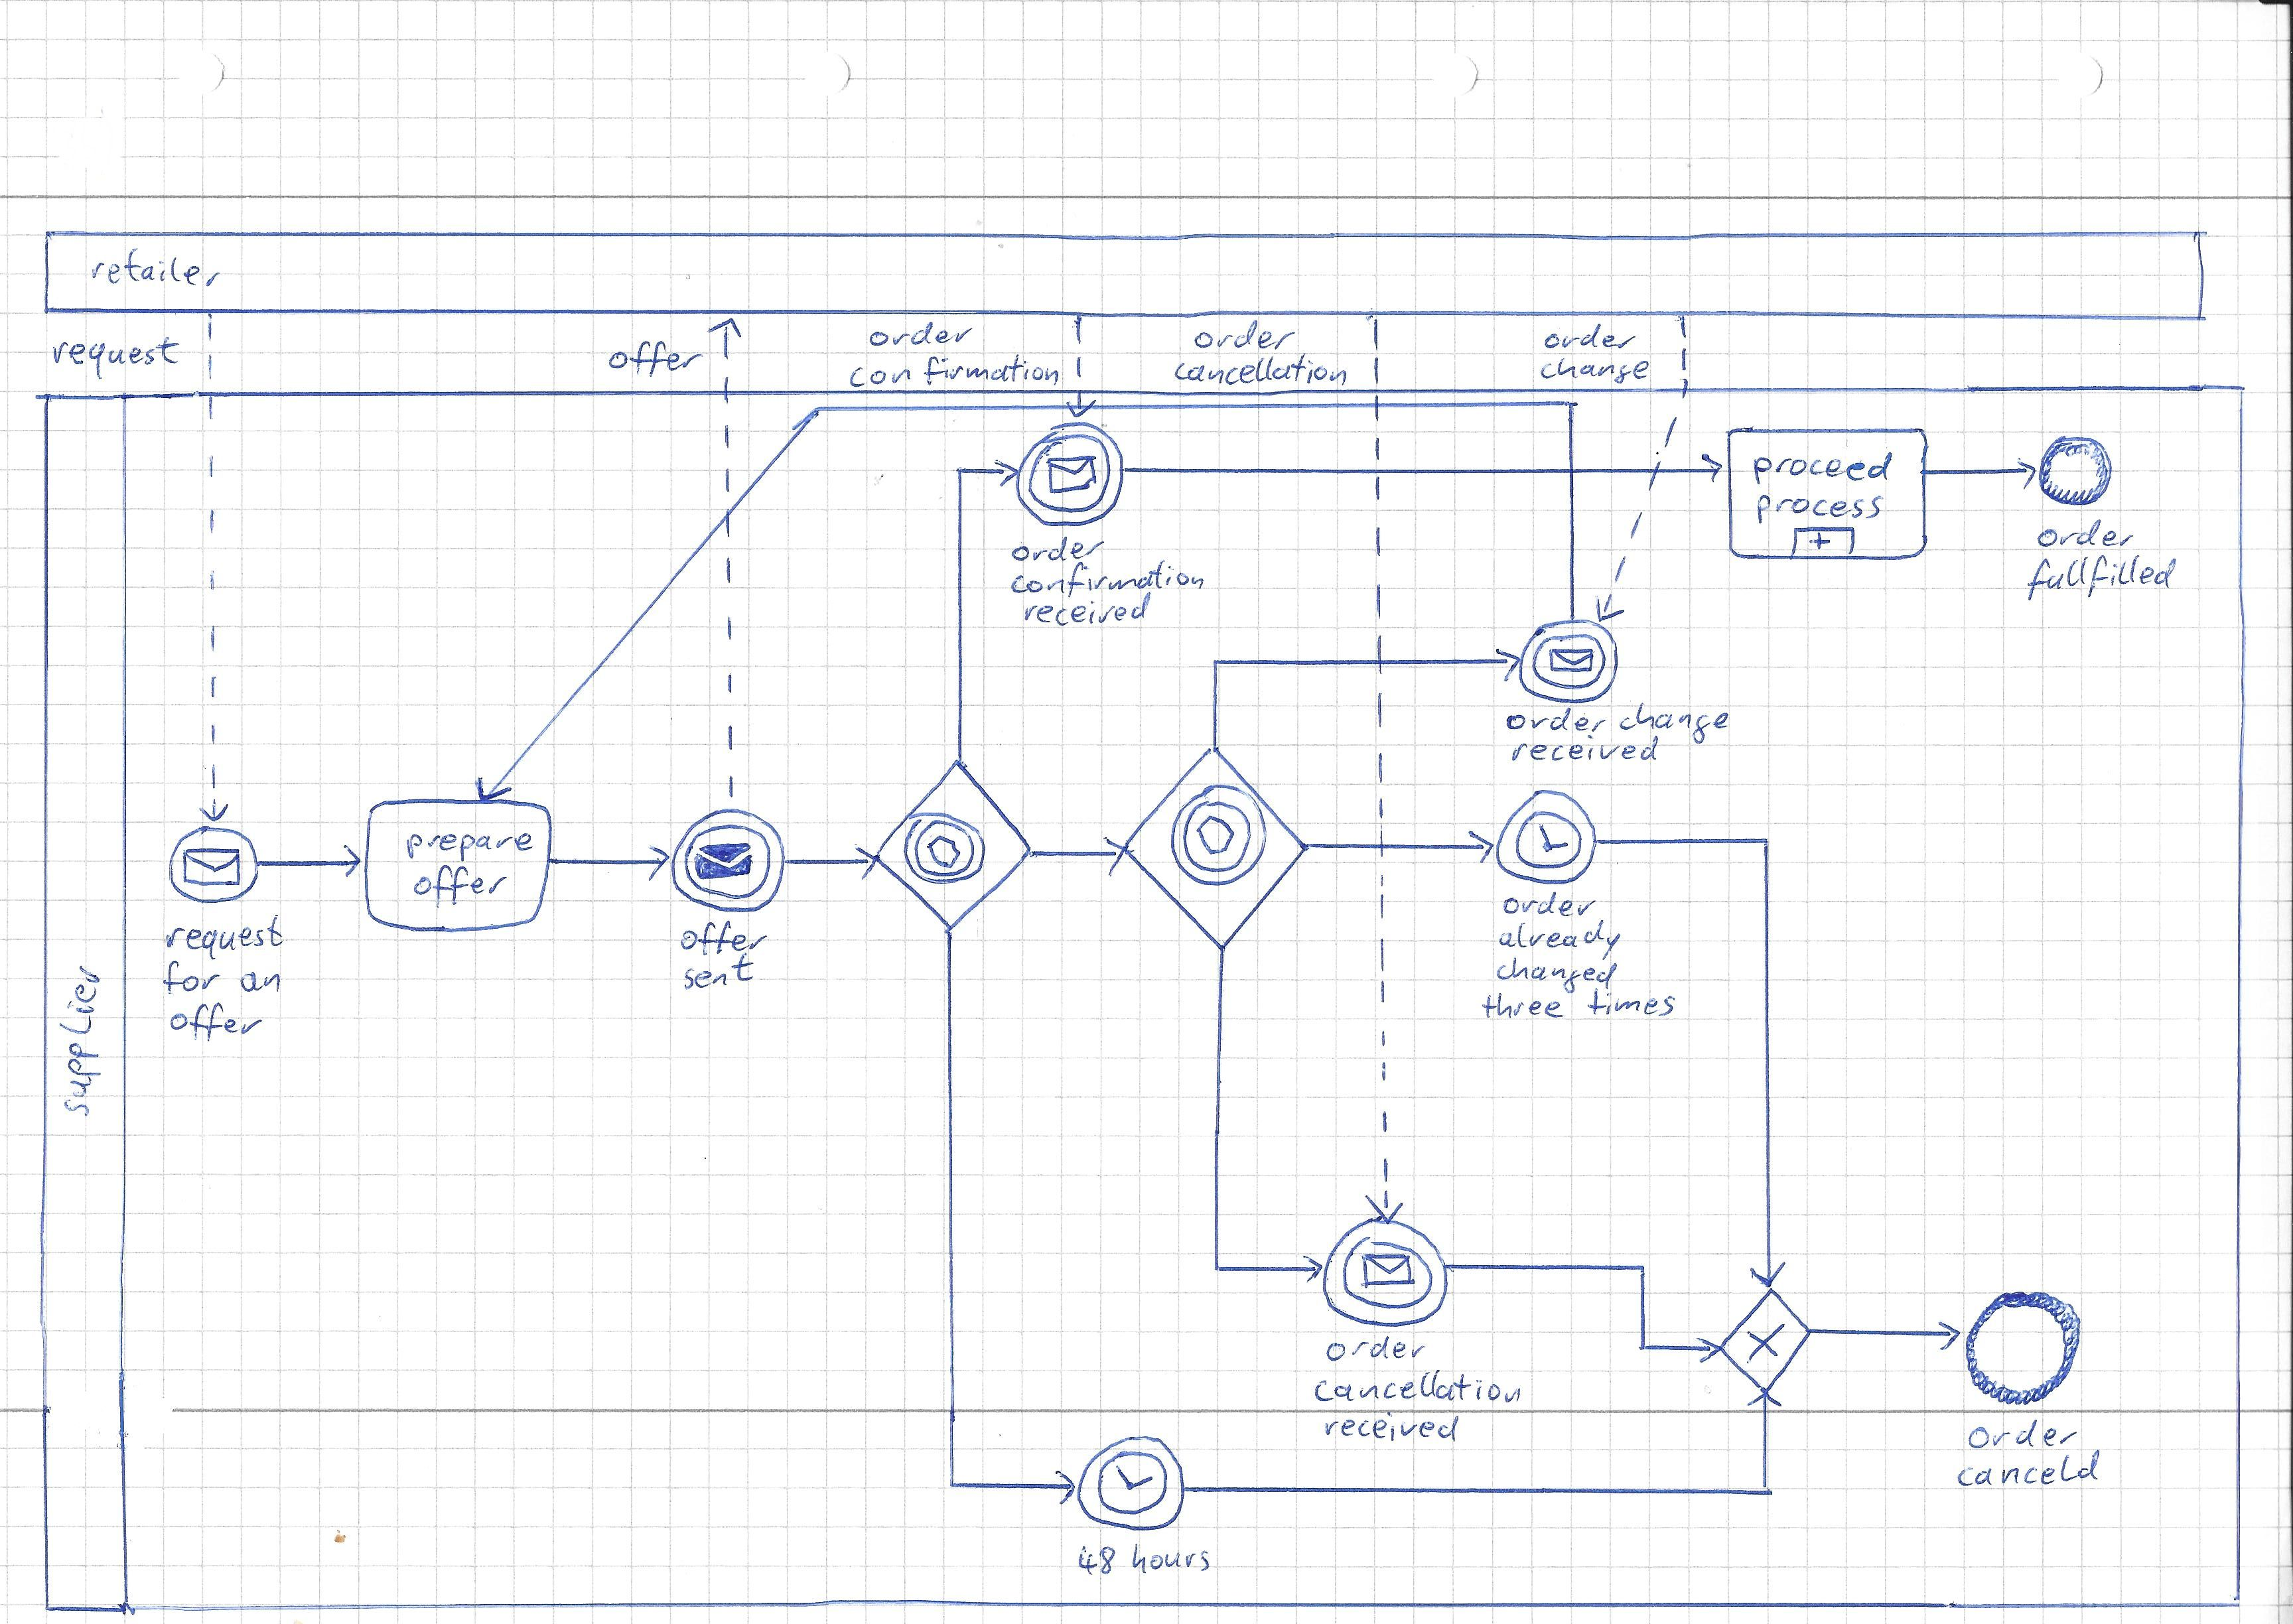48: (1077, 1543, 1125, 1578)
already: (1499, 924, 1620, 956)
an: (244, 963, 281, 998)
canceld: (1956, 1452, 2105, 1492)
cancellation: (1170, 357, 1364, 395), (1314, 1378, 1523, 1406)
change: (1539, 355, 1653, 387), (1618, 707, 1732, 736)
changed: (1494, 958, 1622, 988)
confirmation: (847, 355, 1063, 392), (1009, 561, 1207, 598)
for: (160, 963, 221, 997)
fulfilled: (2026, 555, 2182, 599)
hours: (1130, 1543, 1212, 1578)
offer: (604, 332, 708, 381), (169, 1004, 262, 1040), (413, 866, 503, 902), (678, 921, 764, 956)
order: (872, 320, 979, 357), (1971, 1422, 2080, 1457), (1541, 322, 1643, 355), (1193, 322, 1298, 353), (1504, 893, 1602, 923), (1506, 708, 1609, 736), (2042, 520, 2133, 552), (1016, 536, 1105, 568), (1332, 1338, 1427, 1364)
prepare: (406, 826, 536, 861)
proceed: (1755, 455, 1899, 485)
process: (1755, 492, 1887, 524)
received: (1513, 736, 1660, 763), (1023, 596, 1151, 626), (1325, 1417, 1460, 1443)
request: (51, 336, 184, 374), (162, 917, 286, 958)
retailer: (84, 250, 230, 290)
sent: (678, 960, 756, 993)
supplier: (56, 968, 105, 1121)
three: (1478, 991, 1578, 1023)
times: (1588, 991, 1675, 1021)
